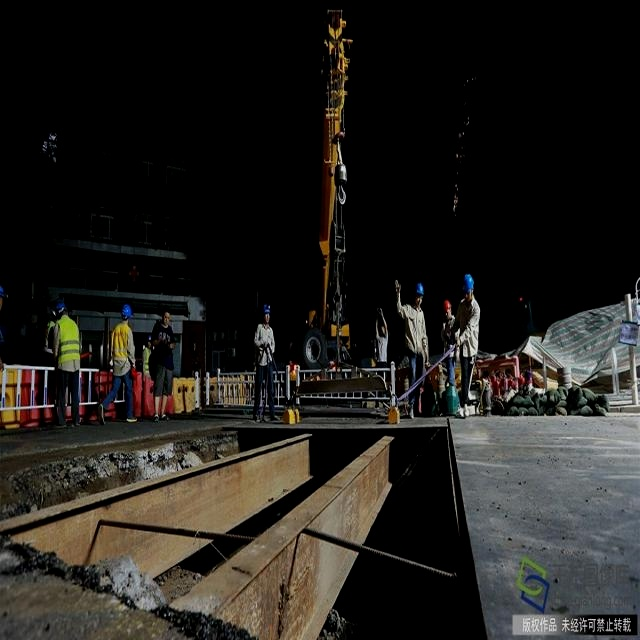Con_Casco: (463, 272, 474, 300), (122, 304, 133, 322), (415, 282, 423, 306)
Con_Chaleco: (58, 318, 82, 374), (112, 322, 131, 370)
Sin_Casco_Mascarrilla: (163, 304, 172, 323)
Sin_Chaleco: (154, 326, 173, 373), (259, 323, 273, 363)
